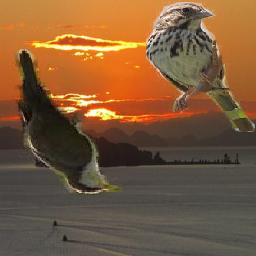Cuckoo: (12, 47, 122, 195)
Sparrow: (147, 2, 256, 132)
